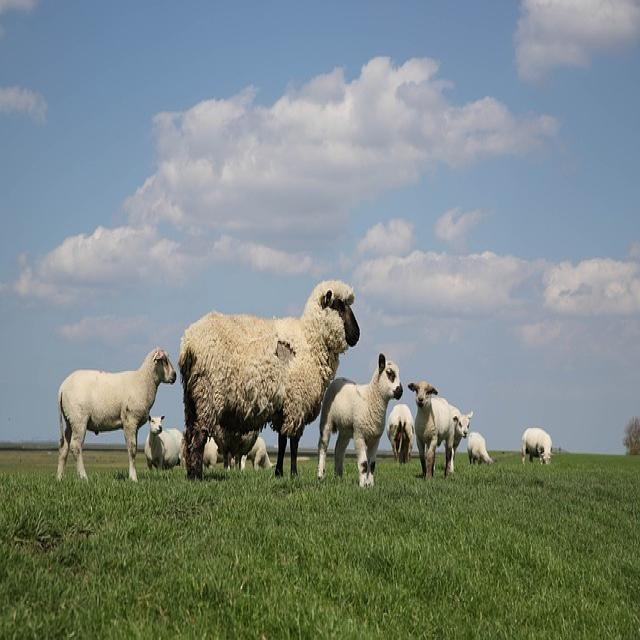sheep: (178, 278, 360, 479), (55, 347, 176, 482), (316, 352, 402, 488), (407, 380, 473, 478), (144, 414, 184, 468), (386, 402, 414, 462), (520, 427, 552, 464), (239, 436, 272, 470), (466, 431, 494, 464)
